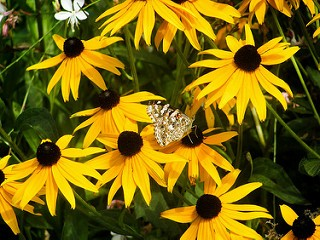flower: (186, 24, 300, 127), (78, 122, 190, 211), (2, 135, 105, 217), (157, 168, 274, 240), (22, 34, 132, 104), (69, 87, 168, 150)
